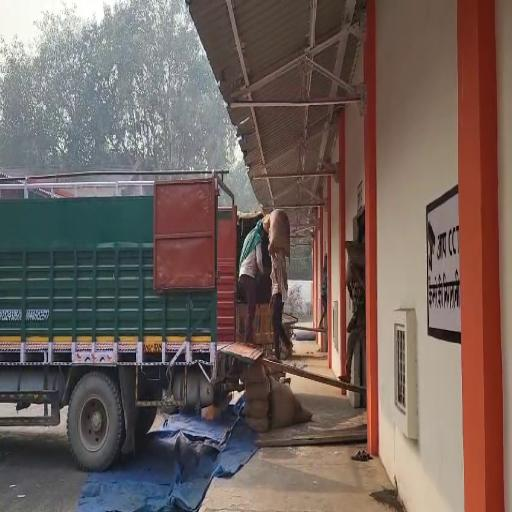bag: (265, 207, 292, 256)
